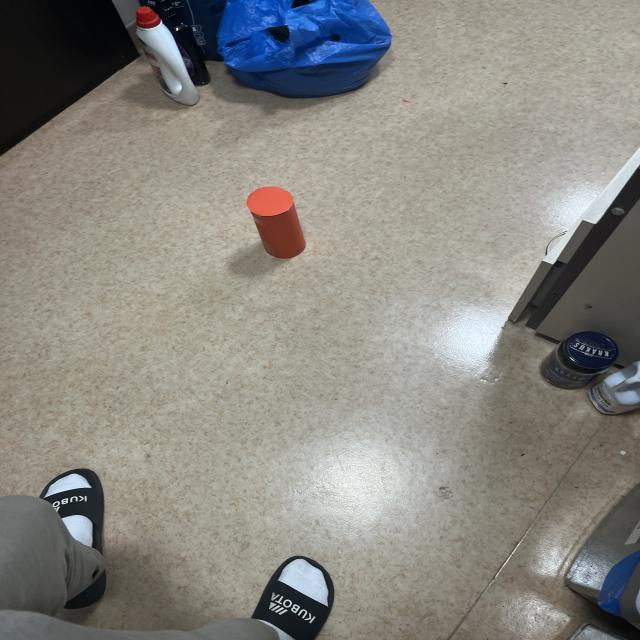przeszkoda: (246, 186, 305, 259)
